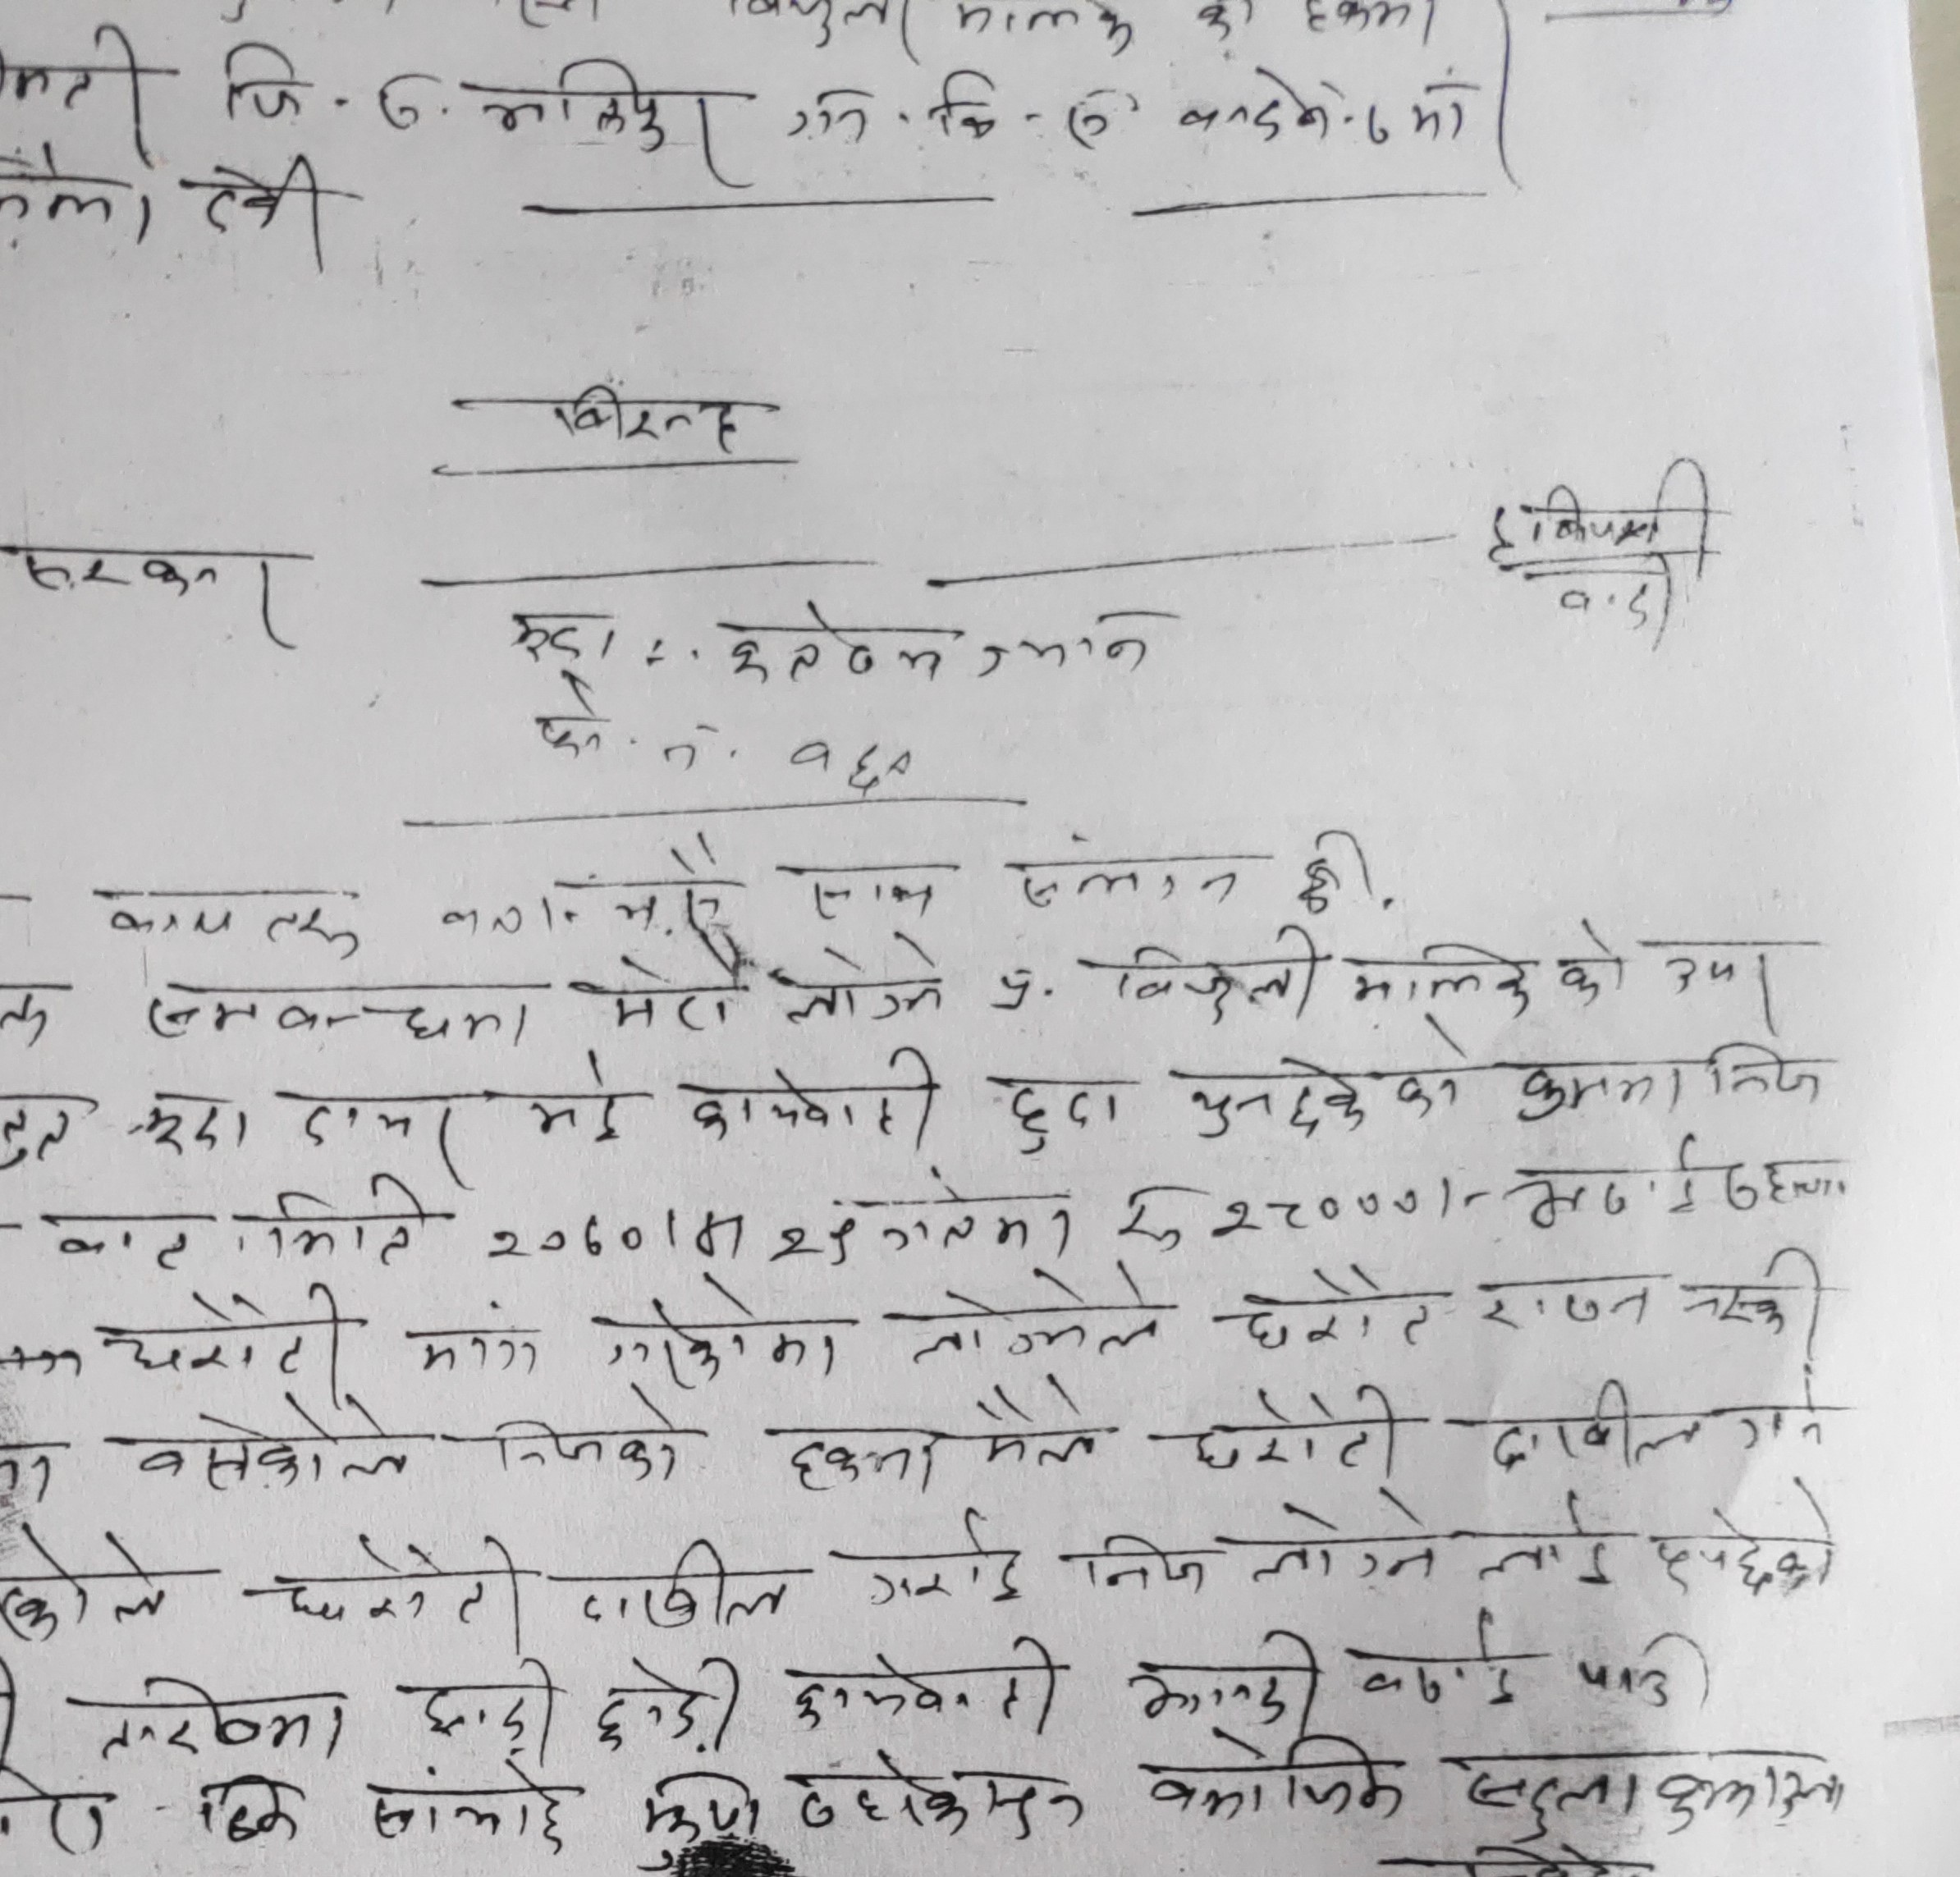text: (1237, 1487, 1624, 1597), (1162, 1013, 1470, 1151), (479, 51, 766, 192), (14, 537, 294, 666), (775, 1629, 1080, 1742), (130, 971, 541, 1051), (121, 1389, 427, 1496), (898, 1259, 1181, 1373), (777, 1753, 1101, 1849), (793, 61, 1115, 157), (257, 1525, 534, 1636), (574, 1273, 845, 1385), (681, 1044, 947, 1156), (77, 1667, 361, 1769), (101, 1279, 353, 1389), (1123, 1727, 1414, 1821), (1111, 1165, 1424, 1247), (1095, 915, 1320, 1029), (479, 1197, 865, 1261), (828, 1501, 1041, 1616), (1176, 1377, 1414, 1480), (710, 595, 962, 689), (1649, 1478, 1852, 1595), (1234, 1254, 1444, 1366), (570, 1532, 798, 1636), (1629, 1356, 1837, 1468), (1118, 1620, 1328, 1730), (486, 1384, 689, 1485), (528, 371, 766, 455), (880, 1160, 1083, 1258), (1337, 927, 1542, 1020), (249, 1172, 438, 1270), (969, 598, 1192, 680), (394, 1651, 560, 1756), (275, 1086, 478, 1172), (1669, 1240, 1829, 1347), (1473, 1370, 1636, 1473), (772, 934, 949, 1027), (1172, 63, 1356, 150), (581, 952, 751, 1046), (591, 1651, 751, 1751), (954, 1368, 1102, 1471), (1512, 1051, 1685, 1135), (1475, 1263, 1657, 1340), (781, 1417, 943, 1501), (1066, 1517, 1211, 1602), (996, 1065, 1127, 1160), (520, 1058, 626, 1151), (500, 598, 630, 668), (1398, 75, 1484, 154)
